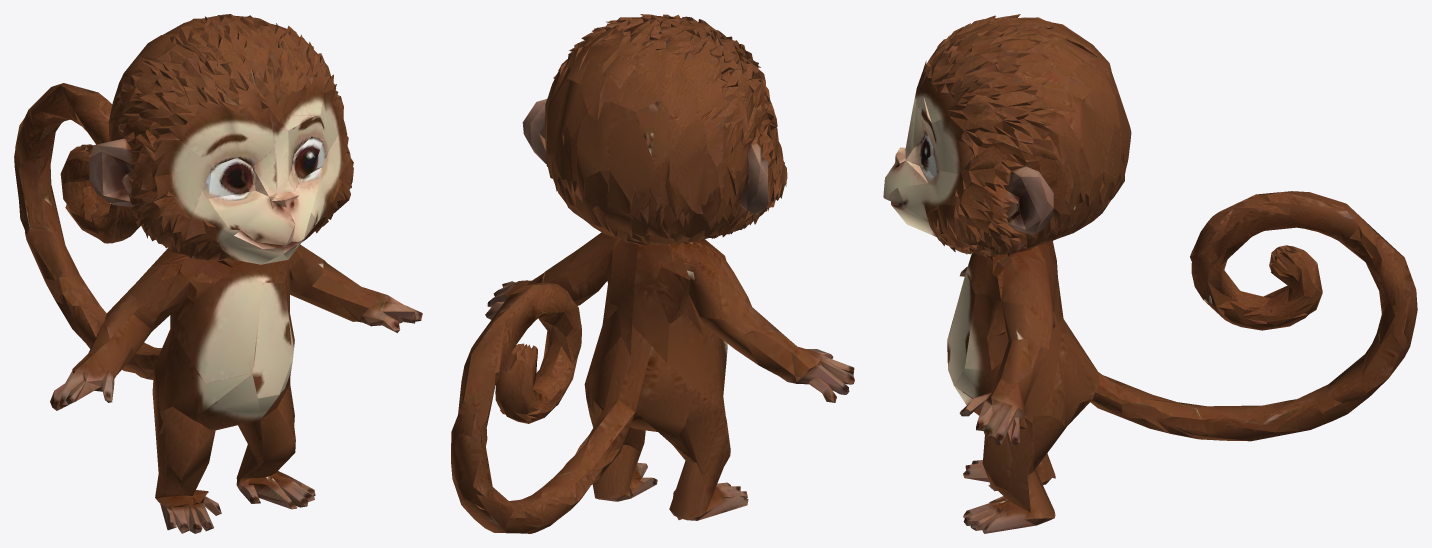
The model's file is monkey-lod.glb.
3 views of the same model, side by side, from view 1: azimuth 30°, elevation 25°; view 2: azimuth 150°, elevation 25°; view 3: azimuth 270°, elevation 25° (orthographic).
Size of the model in its own units: 1.48 by 1.85 by 1.9.
1 material, 1 textured.
